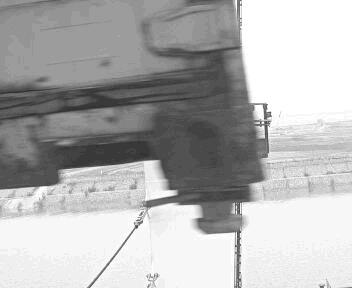twist_lock_1: (201, 187, 302, 245)
